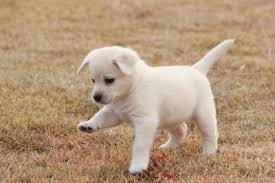dog: (72, 42, 151, 108)
